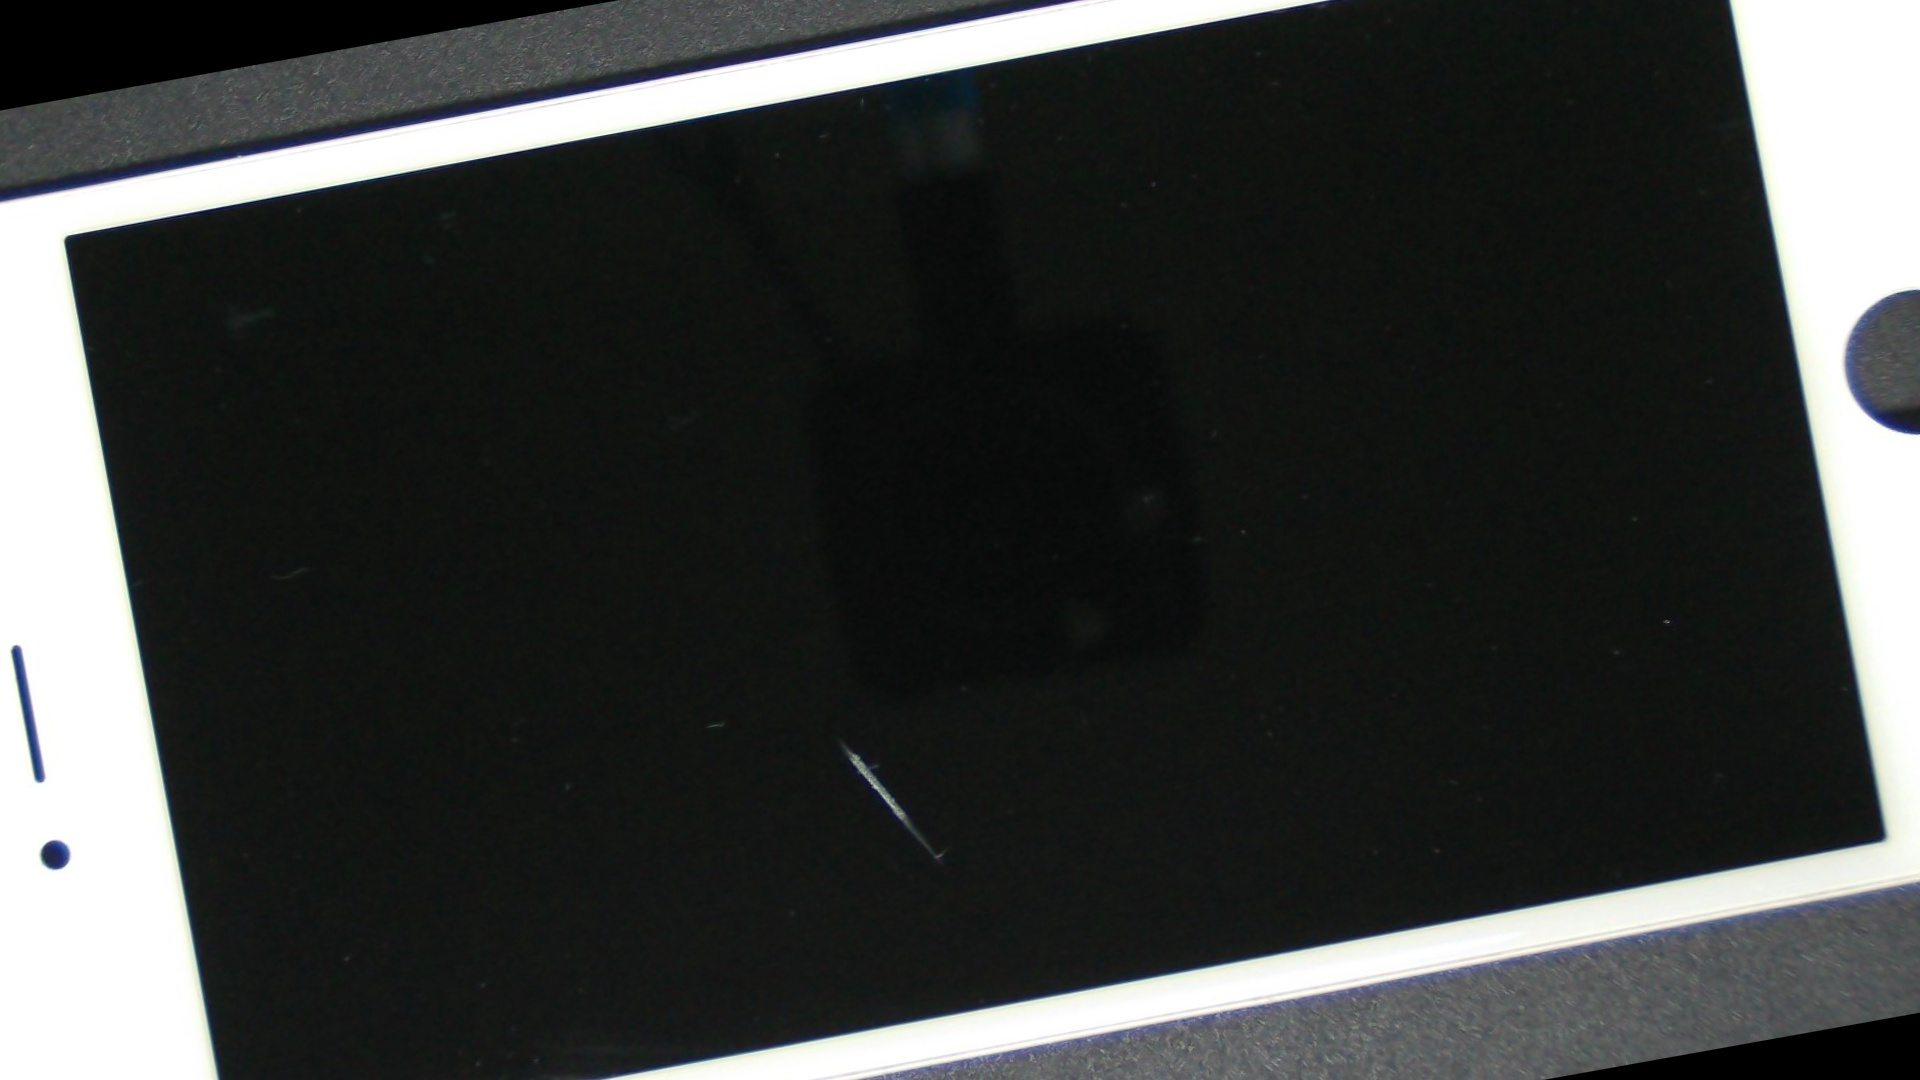oil: (311, 280, 1370, 1080)
